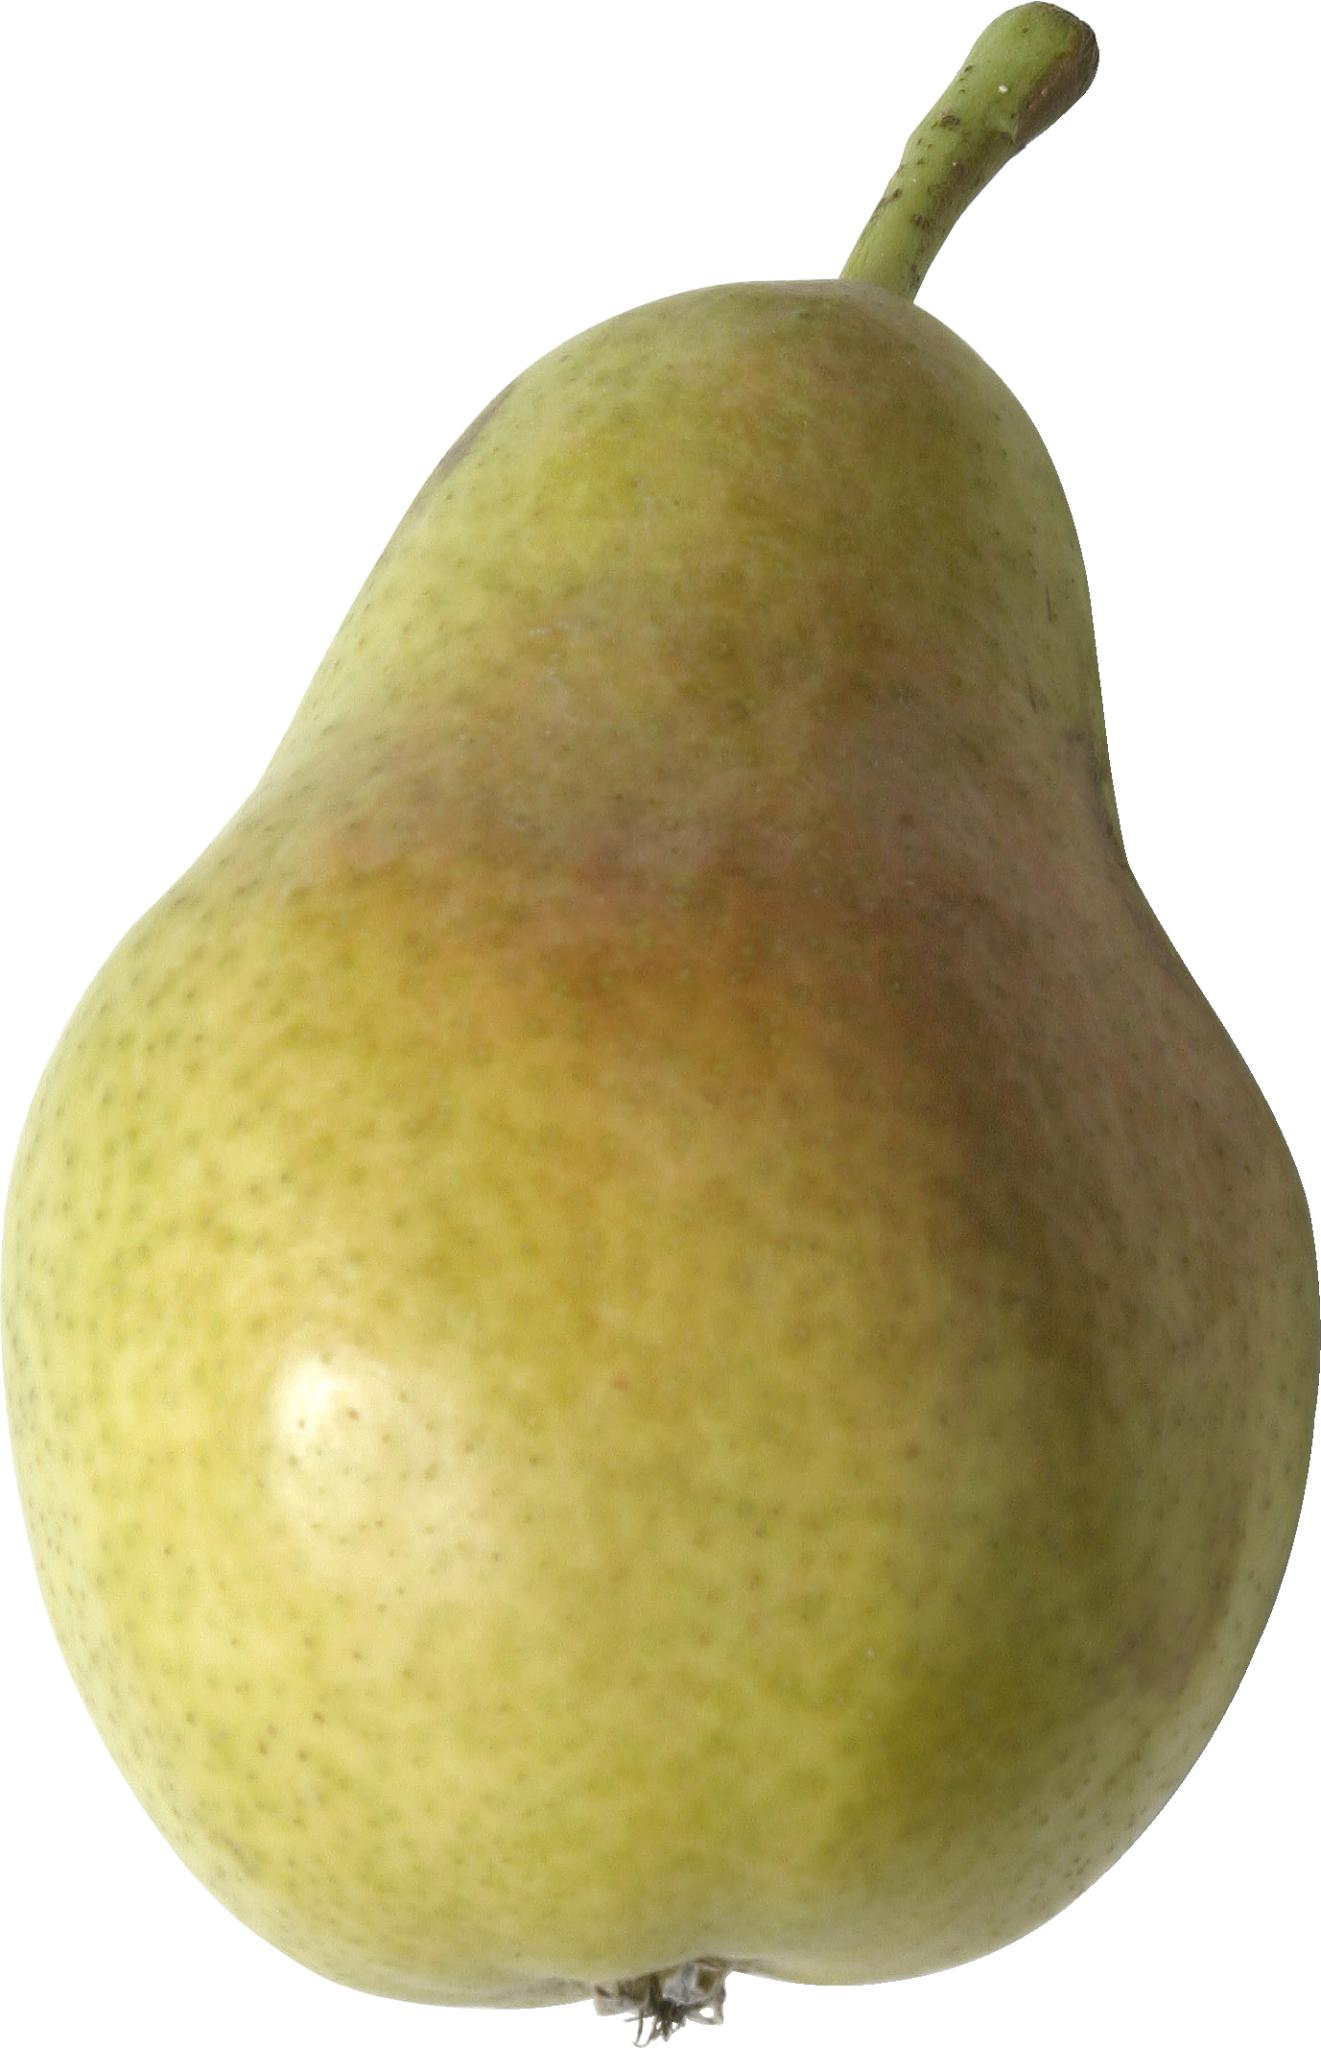Pear Semifresh: (4, 0, 1321, 2048)
